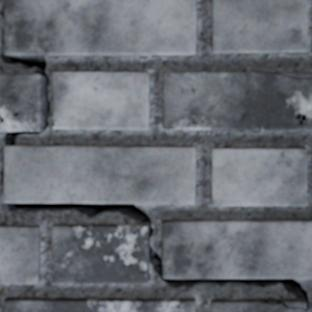brick: (4, 146, 195, 203), (4, 0, 195, 54), (163, 220, 311, 278), (164, 72, 311, 129), (52, 225, 148, 282), (53, 72, 148, 128), (213, 148, 306, 205), (213, 0, 306, 52), (3, 298, 194, 311), (0, 74, 42, 130), (0, 226, 39, 283), (212, 299, 304, 311), (284, 73, 311, 76)
crack: (2, 195, 309, 311), (0, 25, 56, 146), (275, 72, 311, 80), (0, 166, 4, 190), (0, 3, 4, 18), (0, 115, 4, 124)
